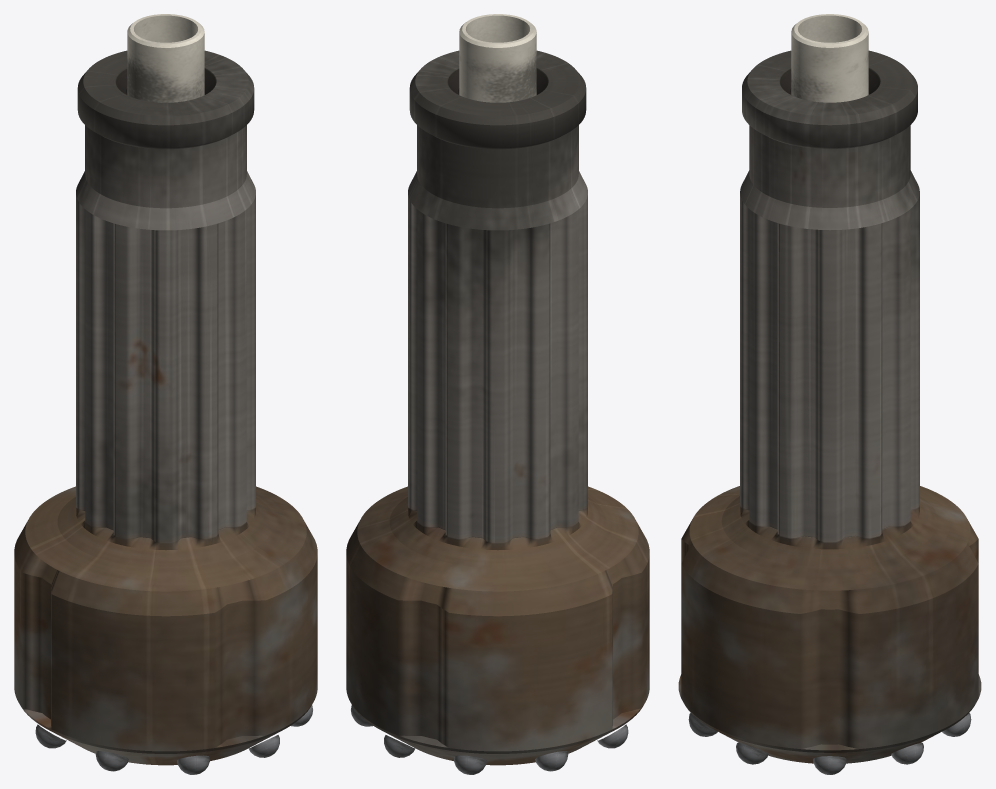
Rendered from SM_Bit_6_1_2po.glb.
3 renders of one model, left to right at view 1: azimuth 30°, elevation 25°; view 2: azimuth 150°, elevation 25°; view 3: azimuth 270°, elevation 25°, orthographic.
Visible parts, largest first — view 1: Bit_6_1_2po, Bit_6_1_2po_TubeDePied, Bit_6_1_2po_Boutons; view 2: Bit_6_1_2po, Bit_6_1_2po_TubeDePied, Bit_6_1_2po_Boutons; view 3: Bit_6_1_2po, Bit_6_1_2po_TubeDePied, Bit_6_1_2po_Boutons.
Part boxes in pixels (x1,y1,x2,y2): Bit_6_1_2po: [14, 50, 317, 765]; Bit_6_1_2po_TubeDePied: [127, 14, 204, 102]; Bit_6_1_2po_Boutons: [35, 705, 312, 774]; Bit_6_1_2po: [346, 50, 649, 765]; Bit_6_1_2po_TubeDePied: [459, 14, 536, 102]; Bit_6_1_2po_Boutons: [351, 705, 628, 774]; Bit_6_1_2po: [678, 50, 981, 763]; Bit_6_1_2po_TubeDePied: [791, 14, 868, 102]; Bit_6_1_2po_Boutons: [688, 713, 971, 774].
Size of the model in its own units: 0.1651 by 0.4217 by 0.1651.
3 materials, 3 textured.
